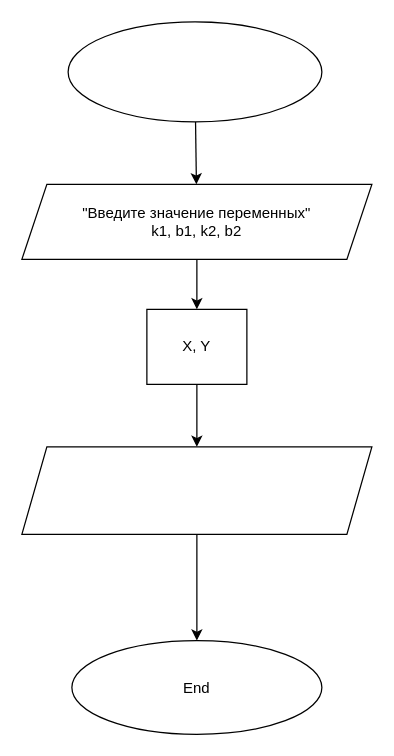
This 394x756 diagram has some shape labels left out. Here are the shapes that lost their labels. From the top down, the centre of each, then its label:
the point at 194,71: Start
the point at 196,490: "Точка с координатами (X;Y) является пересечением двух прямых"
